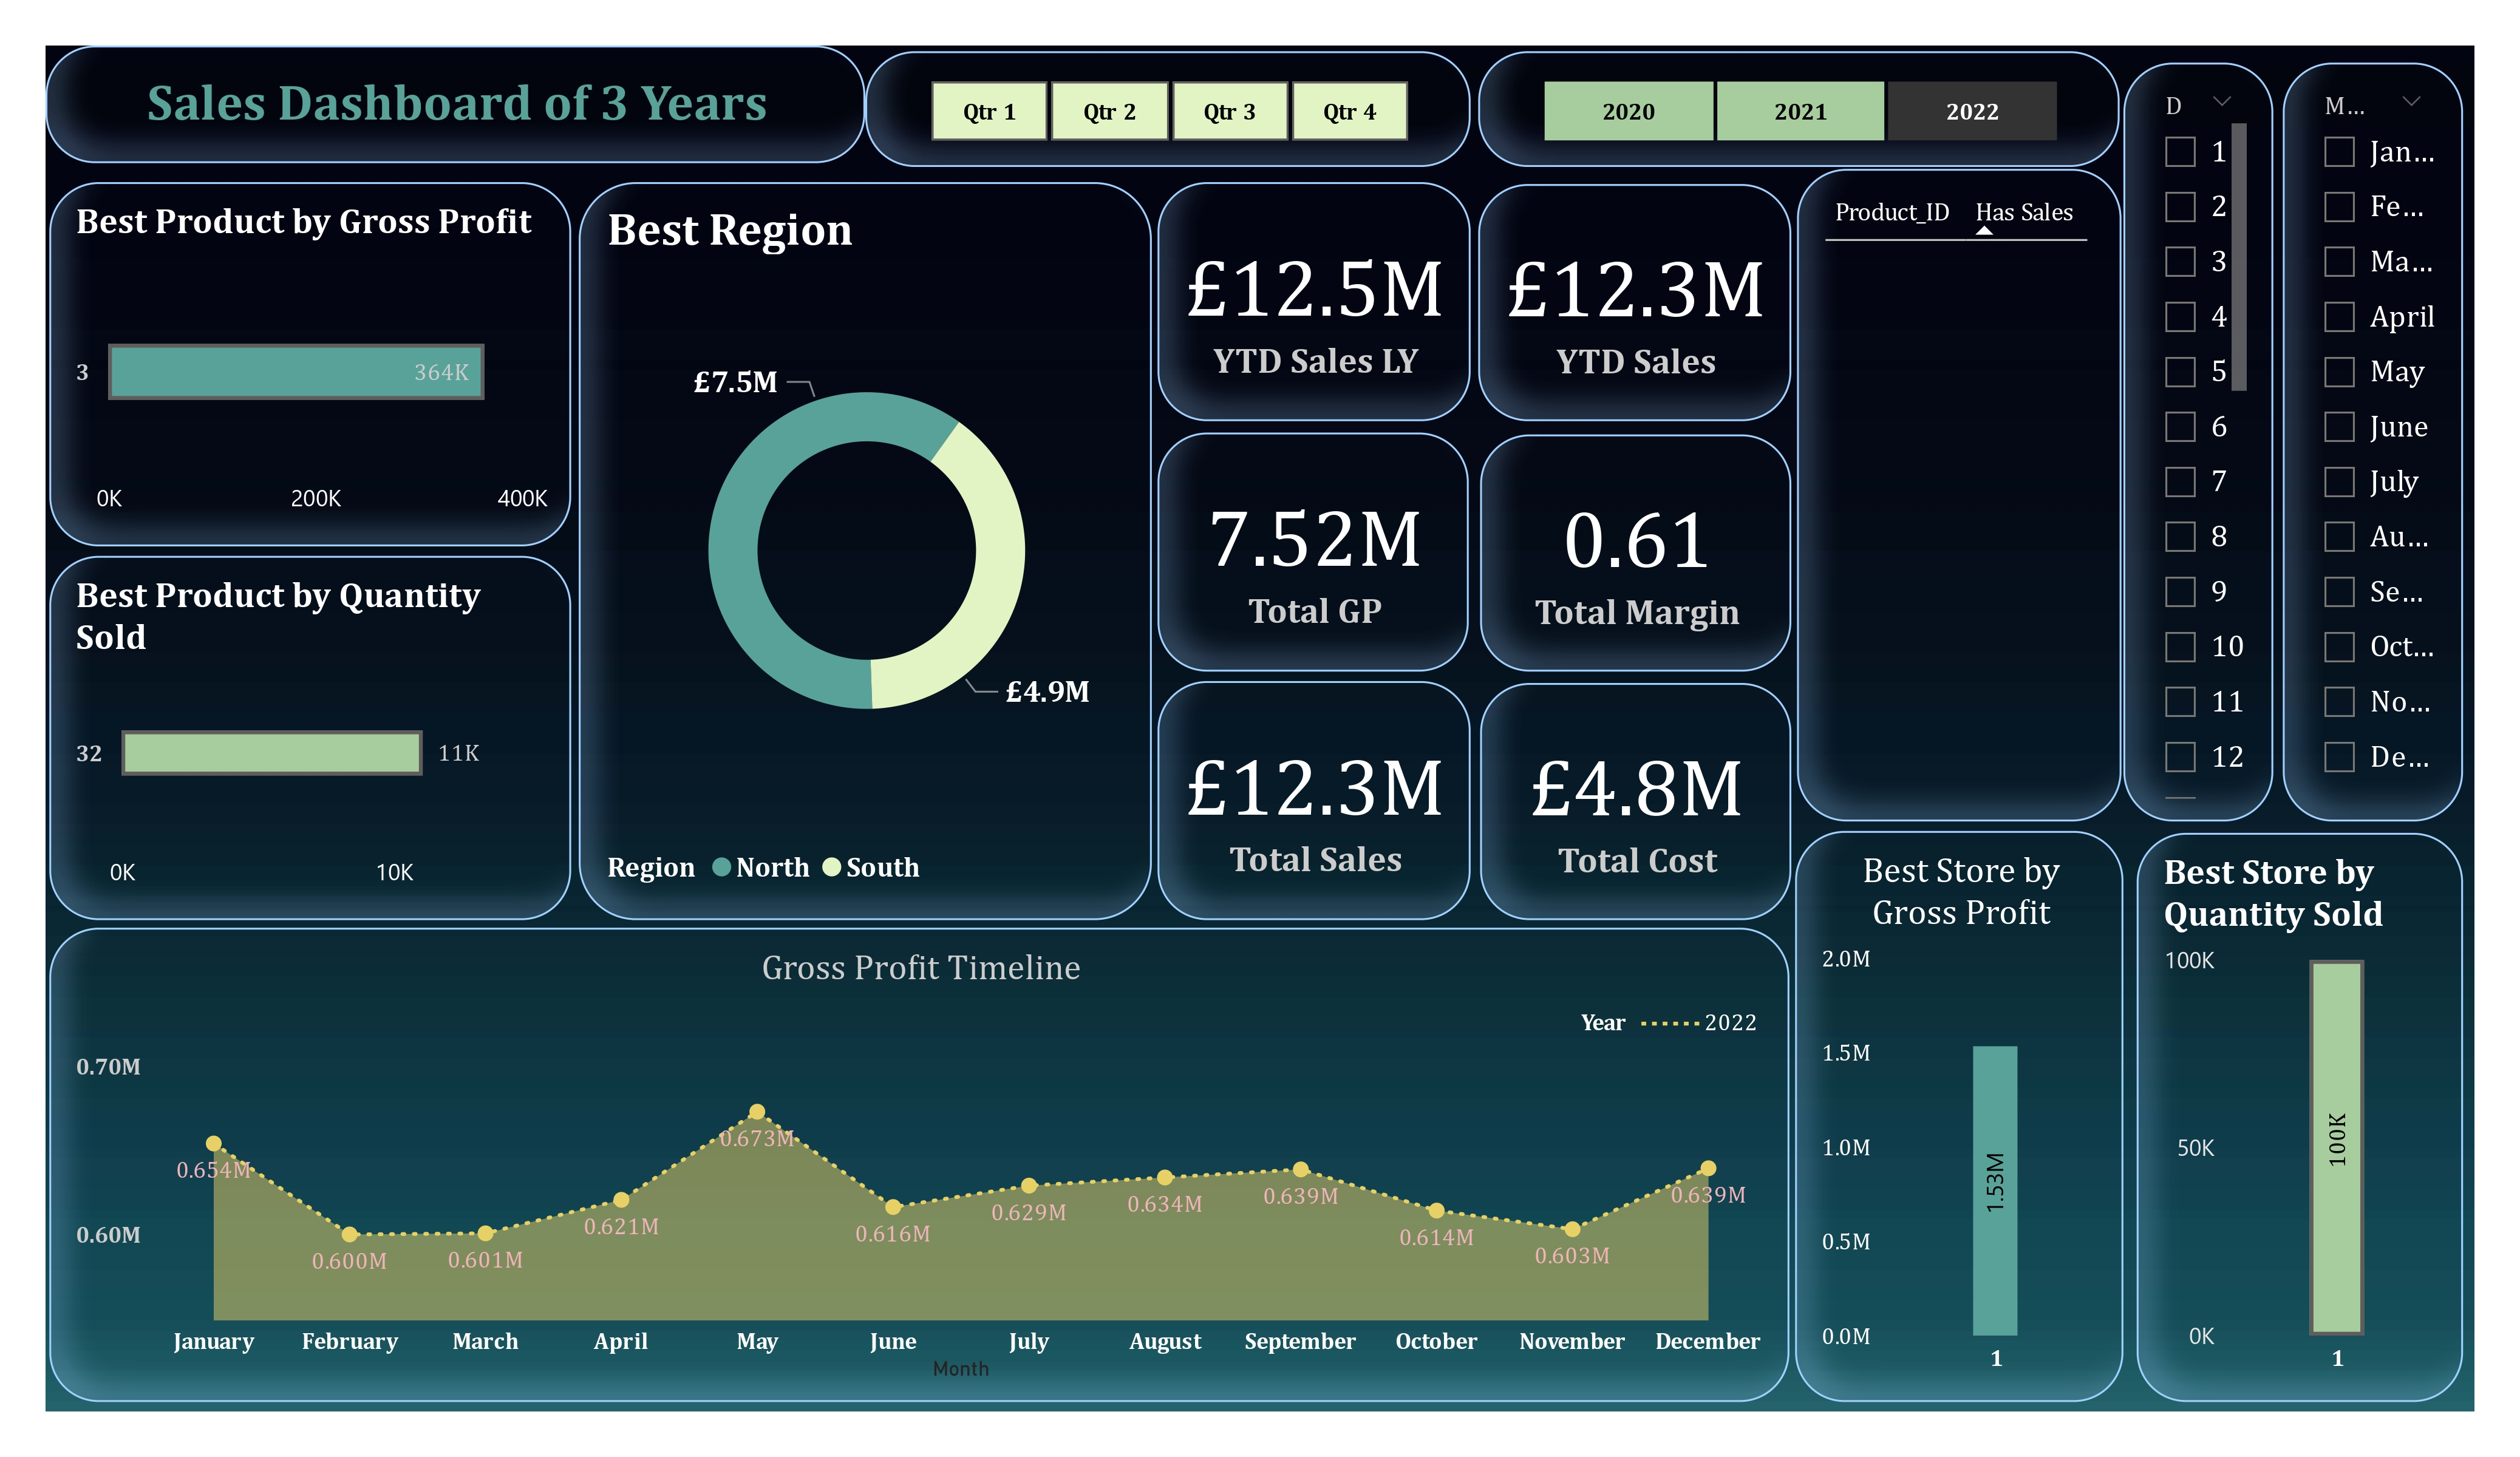

Layout of this report page (visuals, bound fields, positions):
{"tool":"powerbi","page":{"name":"Page 1","canvas":[1280,720],"ordinal":0},"visuals":[{"type":"slicer","fields":{"Values":["Calendar.Date.Variation.Date Hierarchy.Year"]},"box":[755.4,3.4,337.8,60.1],"z":0},{"type":"card","fields":{"Values":["Sales.Sales Value"]},"box":[585.8,335.1,164.9,125.7],"z":1000},{"type":"card","fields":{"Values":["Sales.GP Value"]},"box":[585.8,204.1,164.2,125.7],"z":2000},{"type":"card","fields":{"Values":["Sales.Margin Value"]},"box":[756.1,204.7,163.5,125],"z":3000},{"type":"areaChart","title":"Gross Profit Timeline","fields":{"Y":["Sales.GP Value"],"Category":["Calendar.Date.Variation.Date Hierarchy.Month"],"Series":["Calendar.Date.Variation.Date Hierarchy.Year"]},"box":[2.4,464.9,916.9,250],"z":4000},{"type":"barChart","title":"Best Product by Quantity Sold","fields":{"Category":["Sales.Product_ID"],"Y":["Sum(Sales.Qty_Sold)"]},"box":[2.4,268.9,275,192],"z":5000},{"type":"donutChart","title":"Best Region","fields":{"Y":["Sales.Sales Value"],"Series":["Location.Region"]},"box":[281.2,71.9,301.6,389.1],"z":6000},{"type":"columnChart","title":"Best Store by Gross Profit","fields":{"Category":["Location.Location_ID"],"Y":["Sales.GP Value"]},"box":[922.3,414.2,173,300.7],"z":7000},{"type":"slicer","fields":{"Values":["Calendar.Date.Variation.Date Hierarchy.Quarter"]},"box":[431.8,3.4,318.9,60.1],"z":8000},{"type":"slicer","fields":{"Values":["Calendar.Date.Variation.Date Hierarchy.Month"]},"box":[1179.1,8.8,95.3,400],"z":9000},{"type":"columnChart","title":"Best Store by Quantity Sold","fields":{"Category":["Sales.Location_ID"],"Y":["Sum(Sales.Qty_Sold)"]},"box":[1102,414.9,172.3,300],"z":10000},{"type":"barChart","title":"Best Product by Gross Profit","fields":{"Category":["Sales.Product_ID"],"Y":["Sales.GP Value"]},"box":[2.4,71.7,275,192],"z":11000},{"type":"card","fields":{"Values":["Sales.Cost Value"]},"box":[756.1,336.5,163.5,125],"z":12000},{"type":"card","fields":{"Values":["Sales.YTD Sales"]},"box":[755.4,73,164.2,125],"z":13000},{"type":"tableEx","fields":{"Values":["Product.Product_ID","Product.Has Sales"]},"box":[922.5,65,171.2,343.8],"z":14000},{"type":"slicer","fields":{"Values":["Calendar.Date.Variation.Date Hierarchy.Day"]},"box":[1095.3,8.8,79.1,400],"z":15000},{"type":"card","fields":{"Values":["Sales.YTD Sales LY"]},"box":[585.8,72.3,164.9,125.7],"z":16000},{"type":"textbox","box":[0,0,431.9,62.3],"z":17000}]}

Visuals, with their boxes on the page's 1280x720 design canvas (x1, y1, x2, y2). These are canvas units, not pixel positions in the 2520x1457 screenshot, which may show the page scaled, cropped or inside an application window:
slicer - Calendar.Date.Variation.Date Hierarchy.Year: 755:3:1093:64
card - Sales.Sales Value: 586:335:751:461
card - Sales.GP Value: 586:204:750:330
card - Sales.Margin Value: 756:205:920:330
"Gross Profit Timeline" areaChart: 2:465:919:715
"Best Product by Quantity Sold" barChart: 2:269:277:461
"Best Region" donutChart: 281:72:583:461
"Best Store by Gross Profit" columnChart: 922:414:1095:715
slicer - Calendar.Date.Variation.Date Hierarchy.Quarter: 432:3:751:64
slicer - Calendar.Date.Variation.Date Hierarchy.Month: 1179:9:1274:409
"Best Store by Quantity Sold" columnChart: 1102:415:1274:715
"Best Product by Gross Profit" barChart: 2:72:277:264
card - Sales.Cost Value: 756:336:920:462
card - Sales.YTD Sales: 755:73:920:198
tableEx - Product.Product_ID x Product.Has Sales: 922:65:1094:409
slicer - Calendar.Date.Variation.Date Hierarchy.Day: 1095:9:1174:409
card - Sales.YTD Sales LY: 586:72:751:198
textbox: 0:0:432:62
